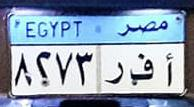2: (34, 49, 52, 86)
3: (74, 48, 95, 88)
7: (55, 50, 73, 88)
8: (13, 49, 33, 88)
alif: (162, 51, 175, 91)
faa: (129, 51, 155, 82)
raa: (103, 59, 126, 88)
